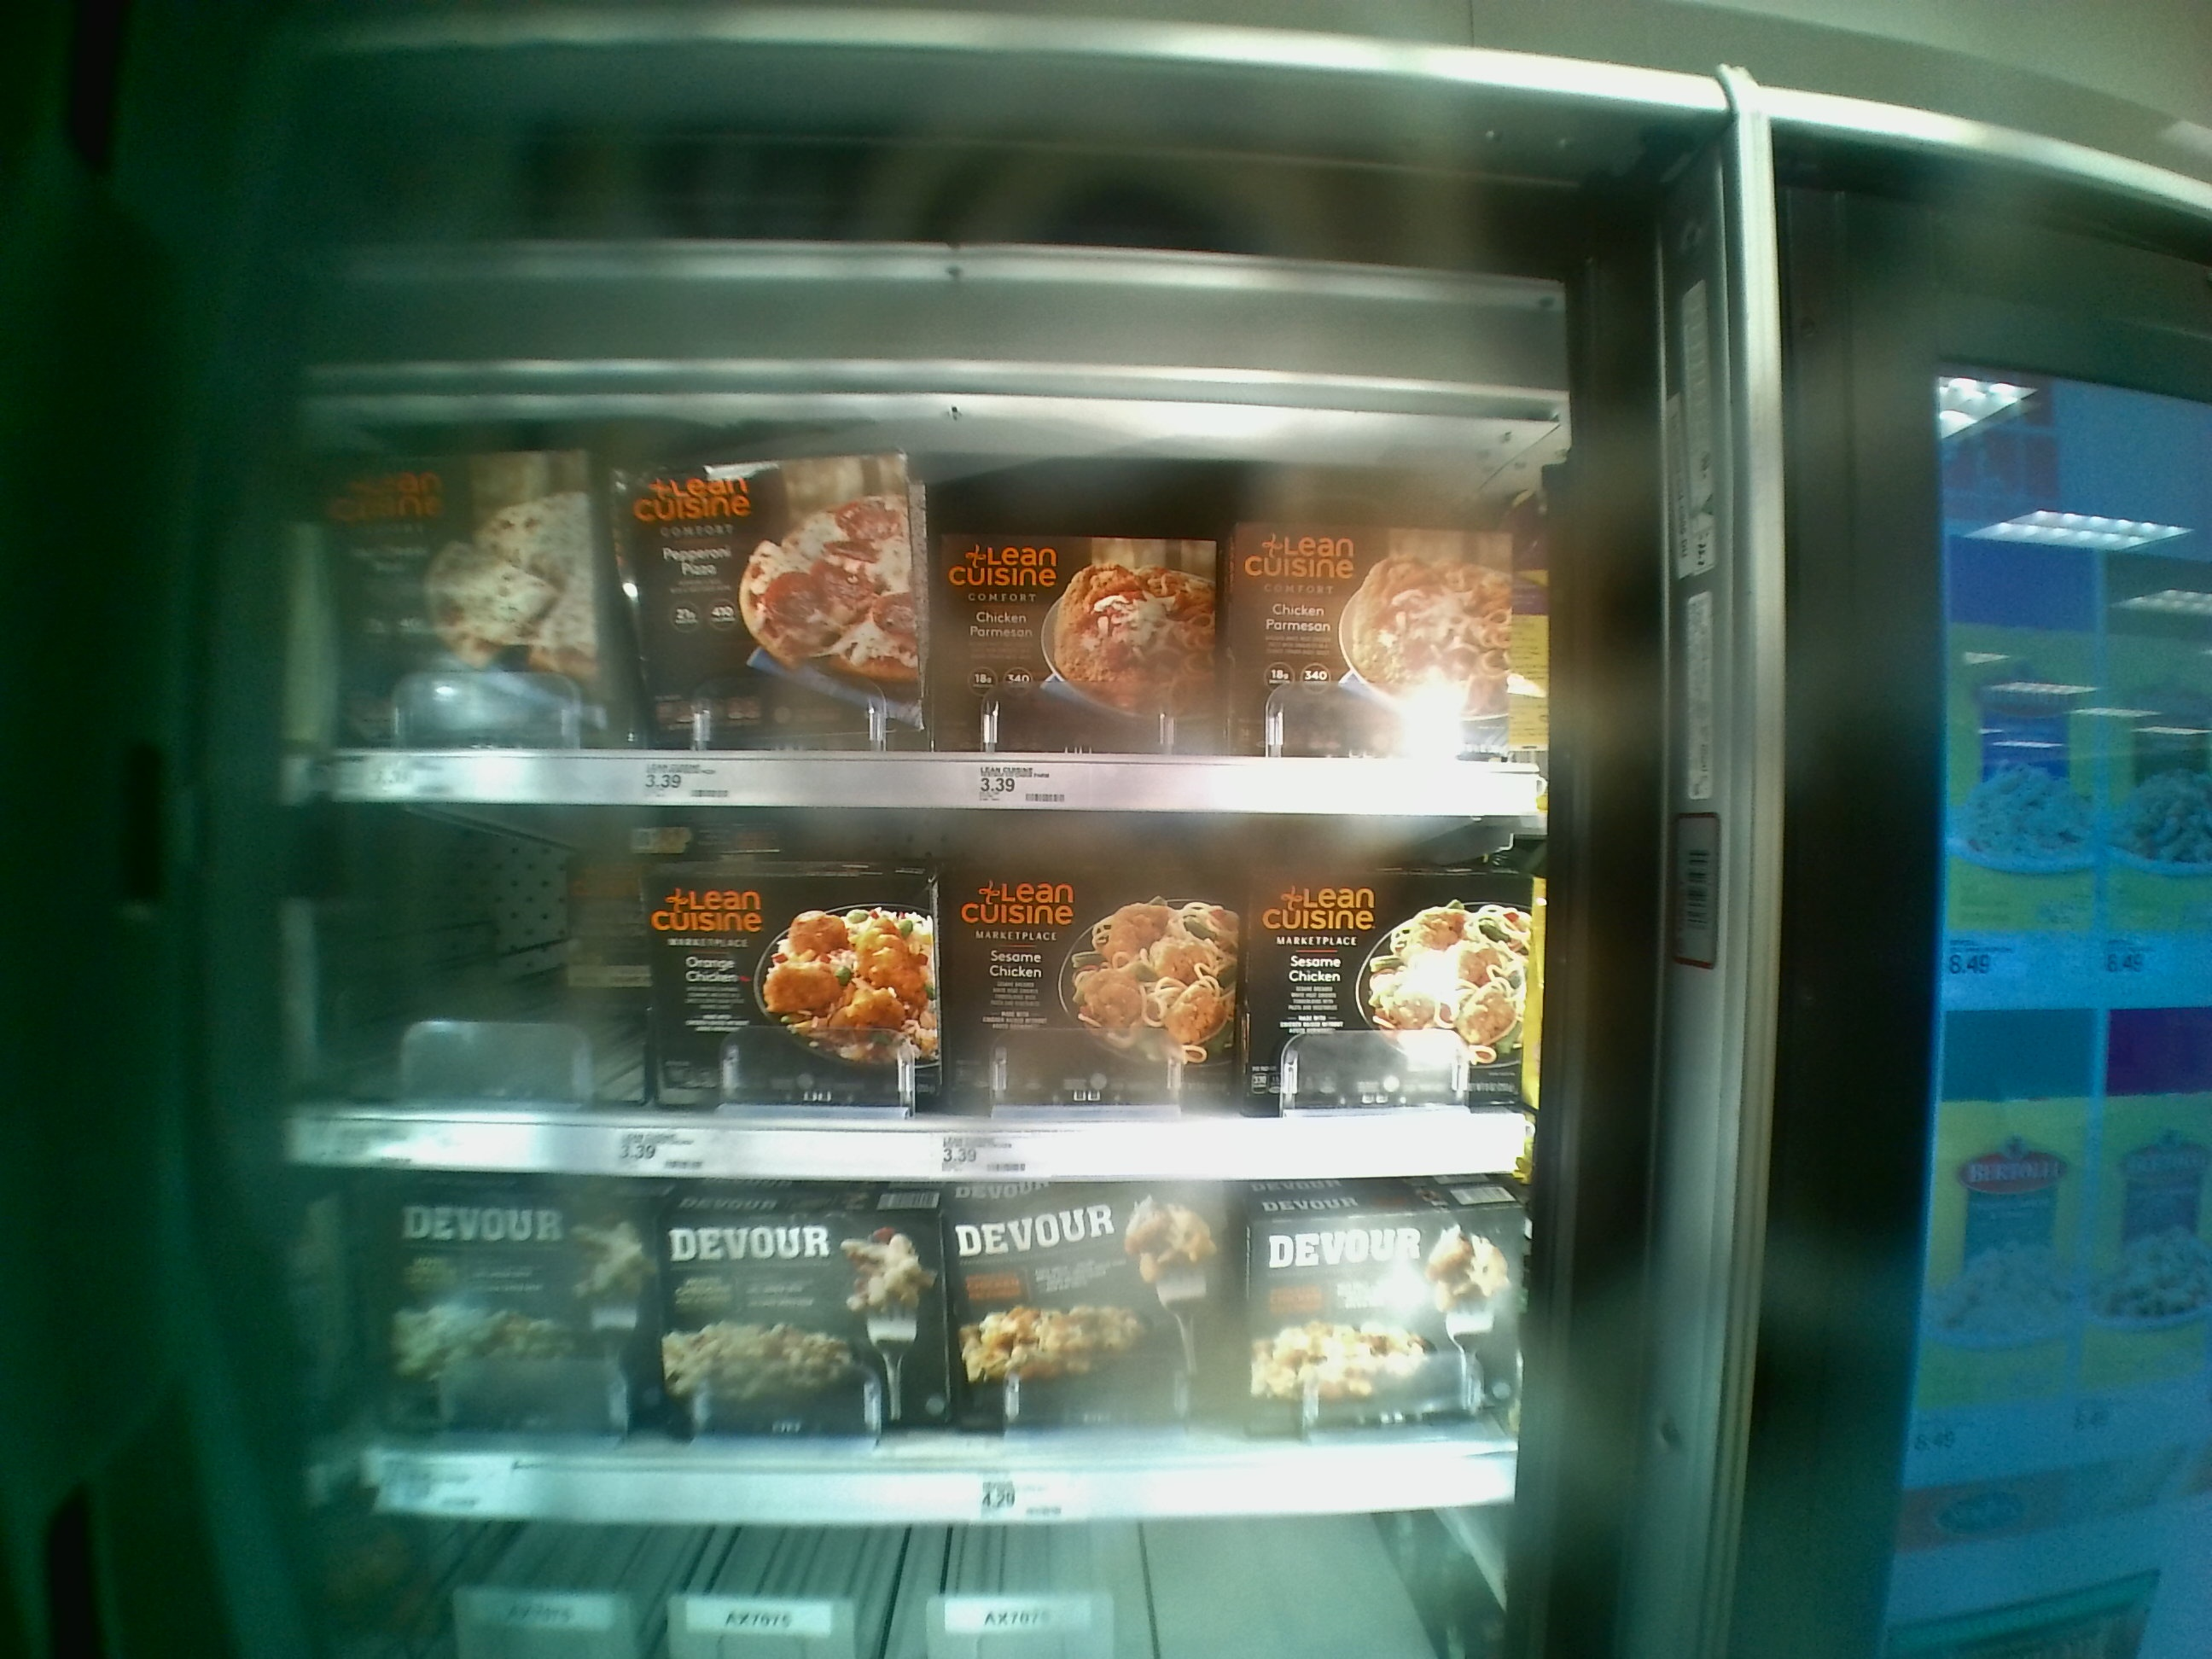Shelf: (296, 396, 1538, 824), (301, 803, 1545, 1178), (307, 1175, 1543, 1527)
